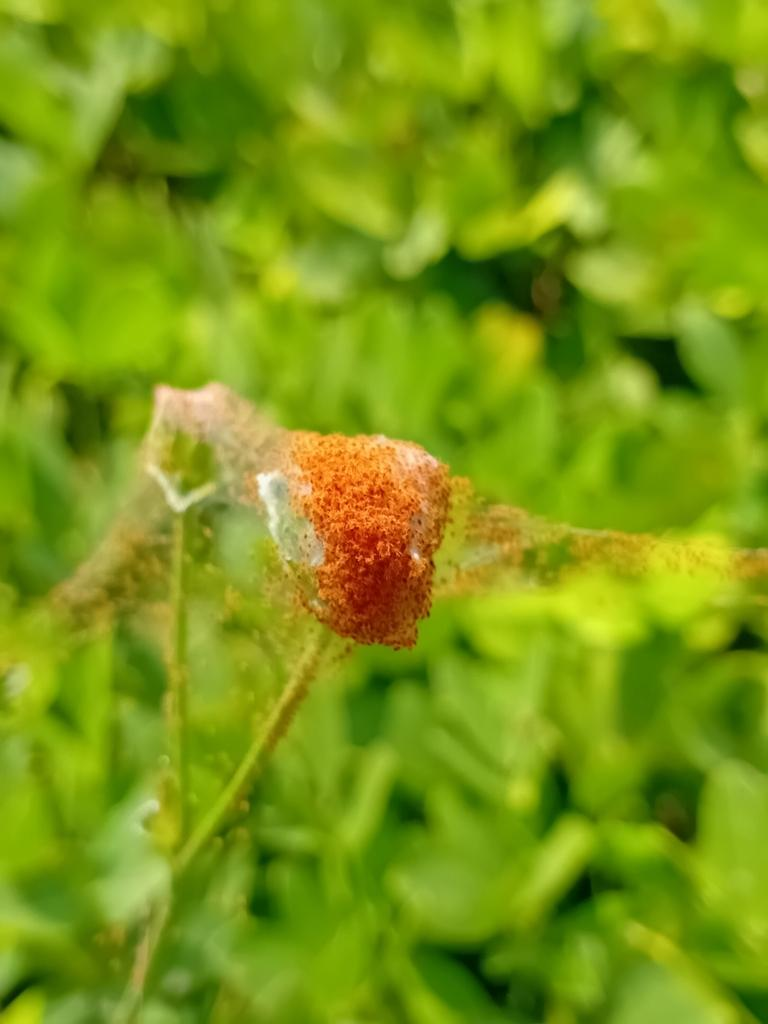tiny_pests: (248, 396, 486, 664)
